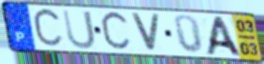0: (174, 14, 205, 56)
A: (203, 16, 244, 58)
C: (31, 6, 66, 50), (99, 9, 133, 53)
U: (61, 8, 98, 50)
V: (129, 12, 162, 54)
